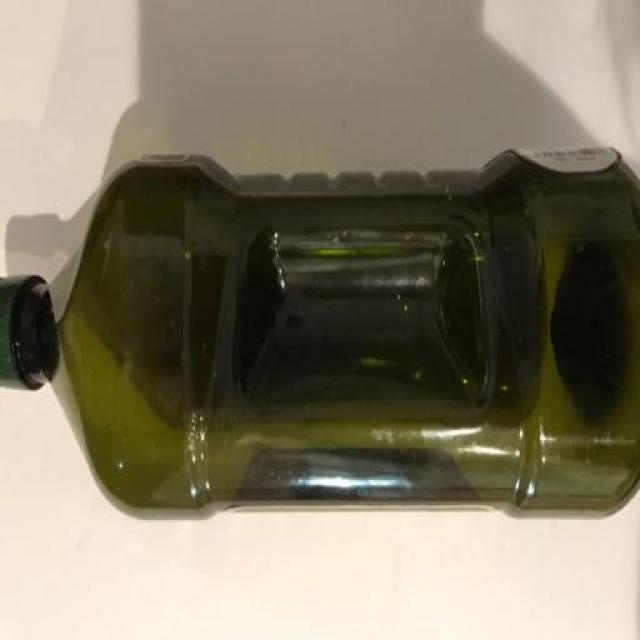plastic_bottle: (1, 149, 640, 575)
